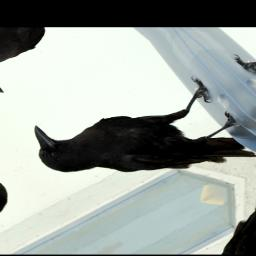Crow: (14, 51, 256, 233)
